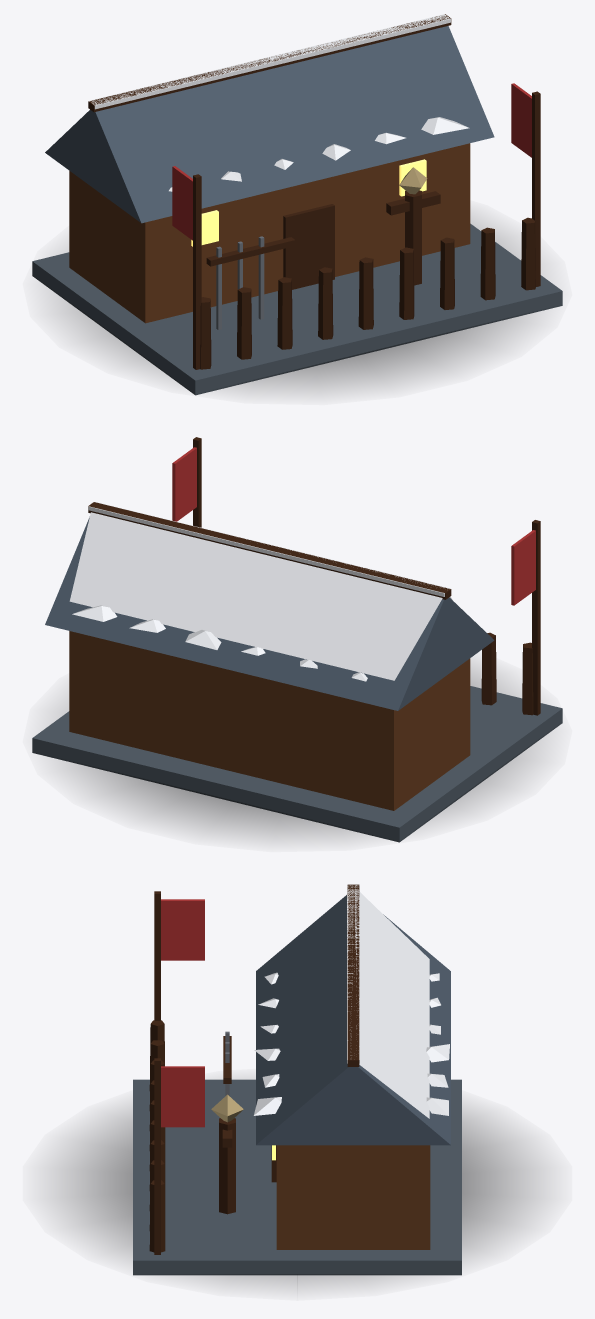
Rendered from barracks_t0.glb.
3 views of the same model, one above another, from view 1: azimuth 30°, elevation 25°; view 2: azimuth 150°, elevation 25°; view 3: azimuth 270°, elevation 25° (orthographic).
Parts seen in each view (by area): view 1: barracks_t0; view 2: barracks_t0; view 3: barracks_t0.
Boxes of the visible parts, x1=… form: barracks_t0: x1=32, y1=14, x2=562, y2=395; barracks_t0: x1=32, y1=437, x2=562, y2=842; barracks_t0: x1=57, y1=884, x2=537, y2=1290.
Size of the model in its own units: 6.96 by 2.85 by 6.89.
